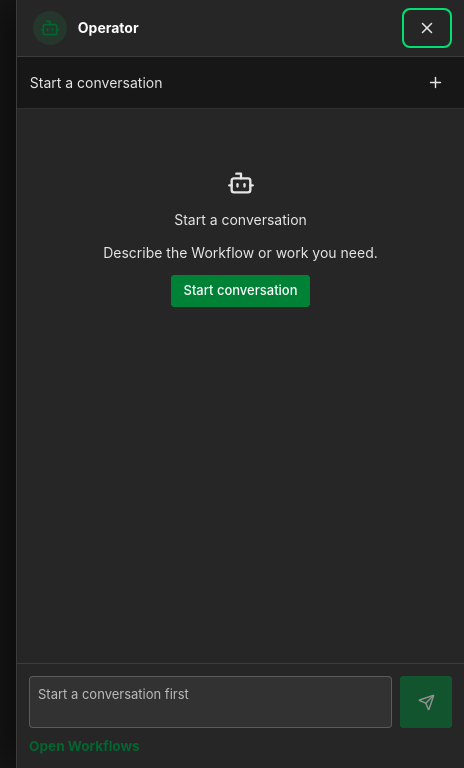
temporary Operator conversation flow › reuses the create key and reconciles controller truth
Click the button "Start conversation": click(240, 291) [172,275,310,307]
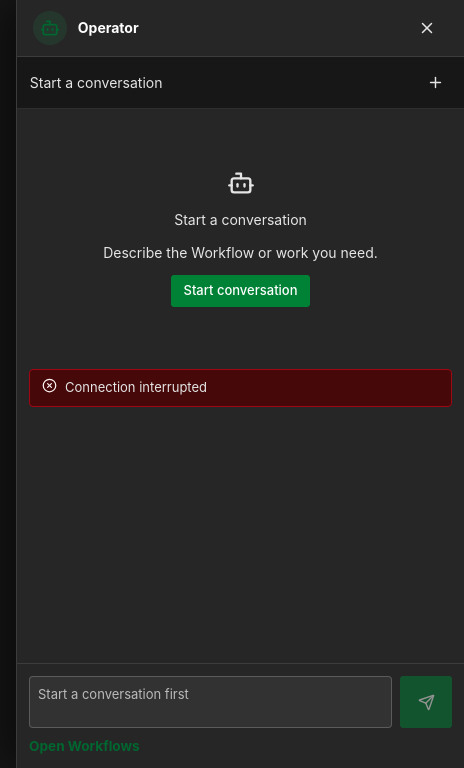
Check: the text "Connection interrupted" is shown, box [65,378,207,398]
Click the button "Start conversation": click(240, 291) [172,275,310,307]
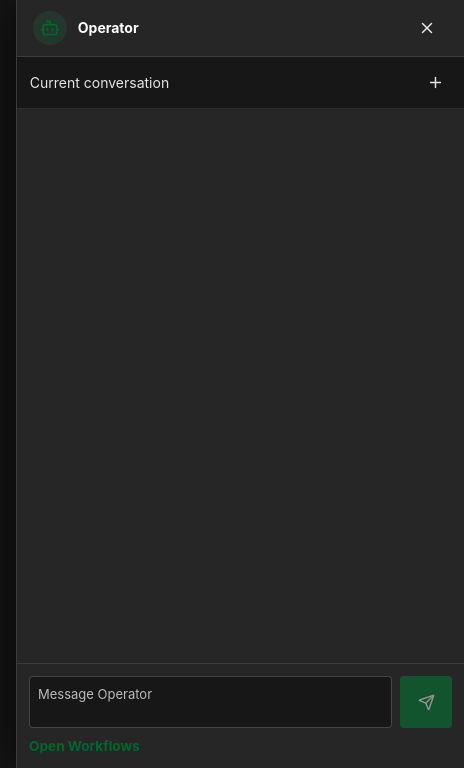
Check: the text box labelled "Message Operator" is enabled, box [29,676,392,728]
